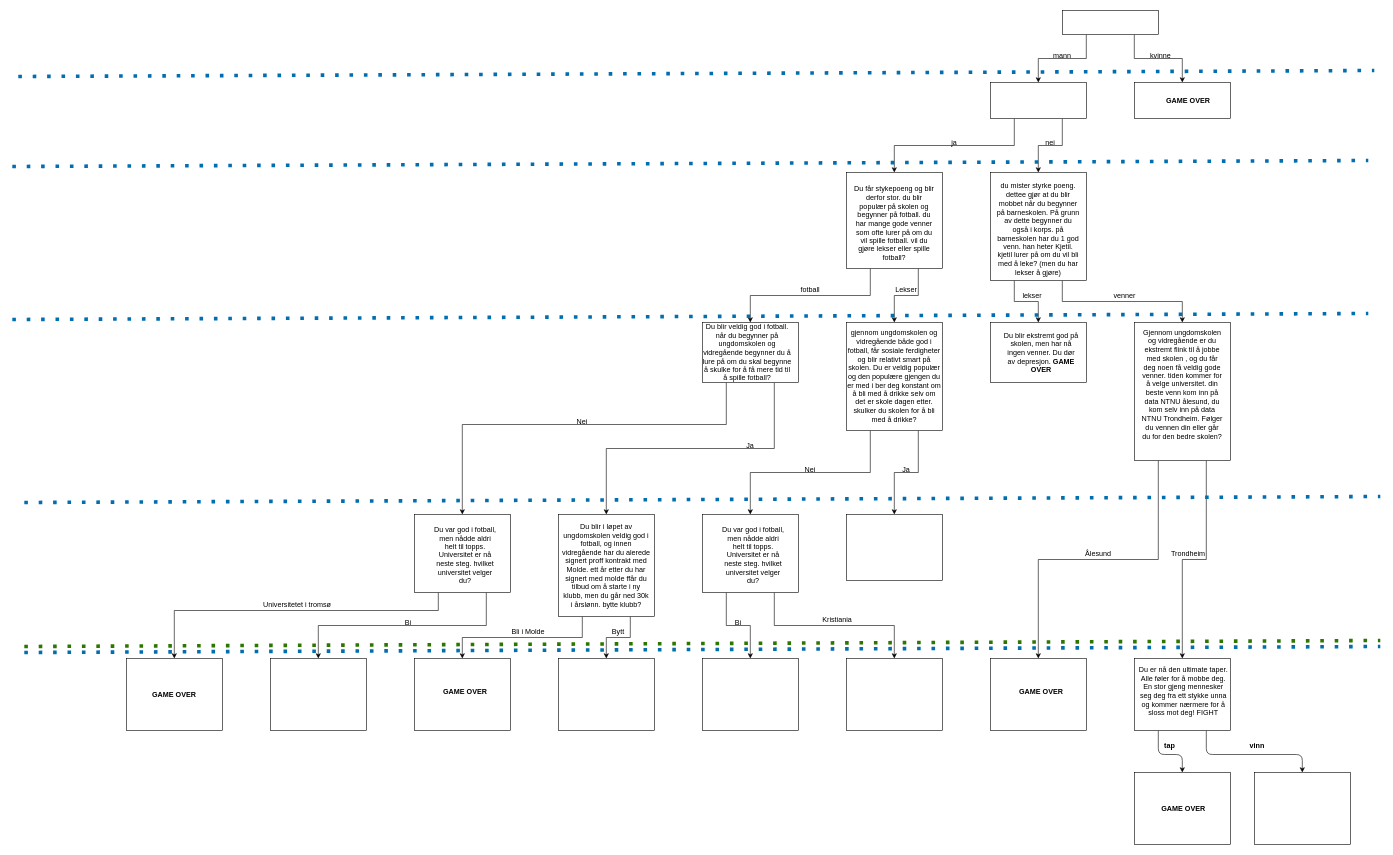
Image size: 1393x855. Some labels were removed from this diagram. The centre of each missing label's shape, as x and y in pixels:
"Du prøver hjemmebrent på russebuss og dør av alkoholforgiftning. GAME OVER" goes at point 894,547.
"Gratulerer du ble født. vil du drikke morsmelk eller ikke?" goes at point 1038,100.
"Velg kjønn?" goes at point 1110,22.
